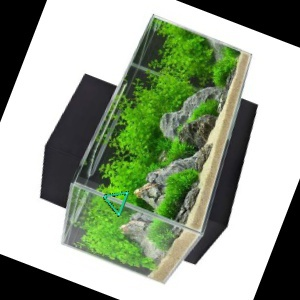triangle: (101, 188, 131, 218)
